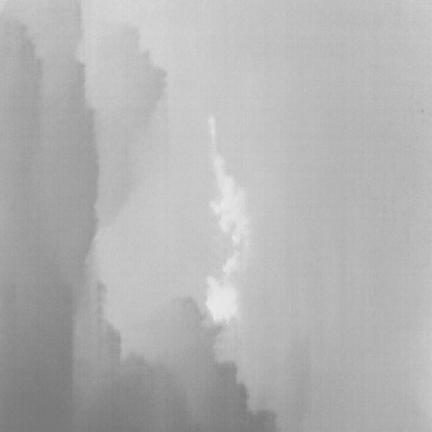flukeprints: (208, 117, 249, 250), (205, 277, 236, 322), (223, 251, 239, 277)
